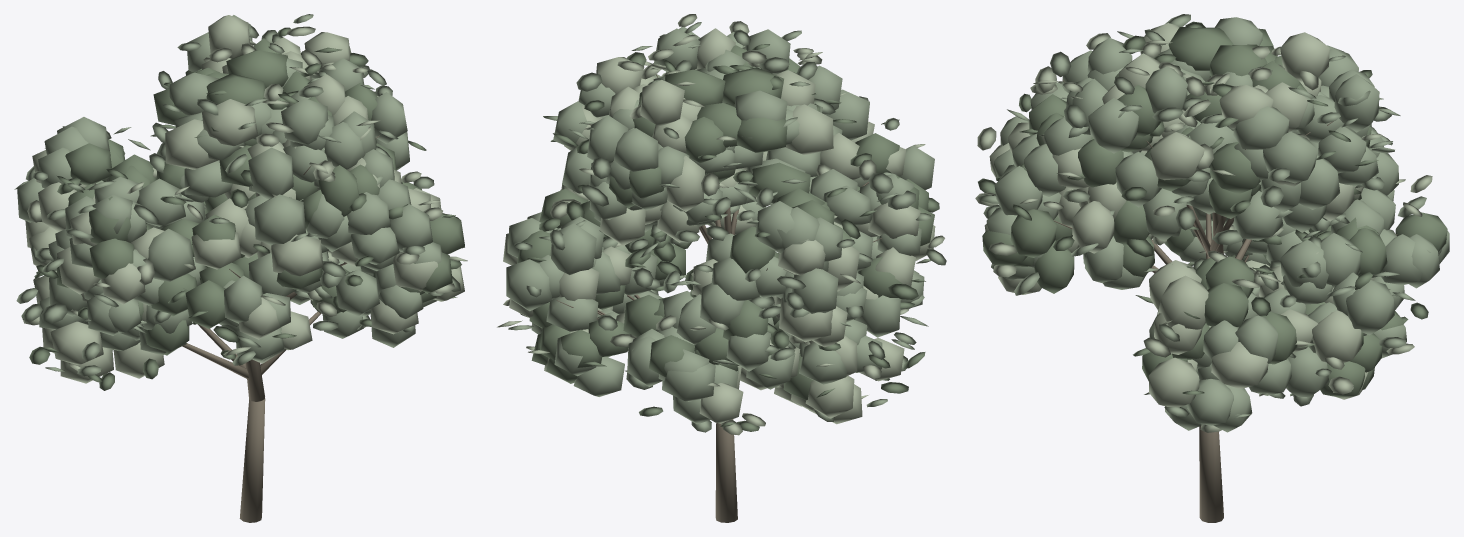
File: SM_MPR3_Tree_2.fbx
3 renders of one model, left to right at view 1: azimuth 30°, elevation 25°; view 2: azimuth 150°, elevation 25°; view 3: azimuth 270°, elevation 25°, orthographic. The views are drawn at different scales.
Visible parts, largest first — view 1: SM_MPR3_Tree_2; view 2: SM_MPR3_Tree_2; view 3: SM_MPR3_Tree_2.
Part boxes in pixels (x1,y1,x2,y2): SM_MPR3_Tree_2: (14,14,467,522); SM_MPR3_Tree_2: (497,14,946,522); SM_MPR3_Tree_2: (975,14,1449,522).
Size of the model in its own units: 719 by 658 by 760.
